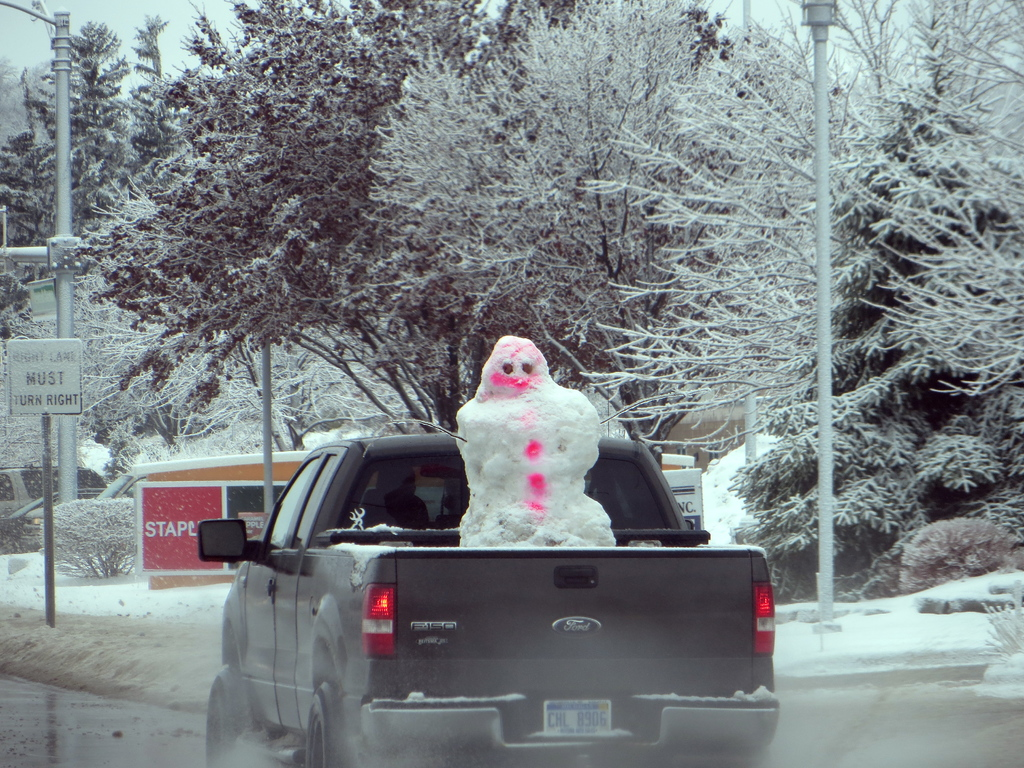Tree: (0, 0, 1023, 608), (0, 13, 140, 243)
